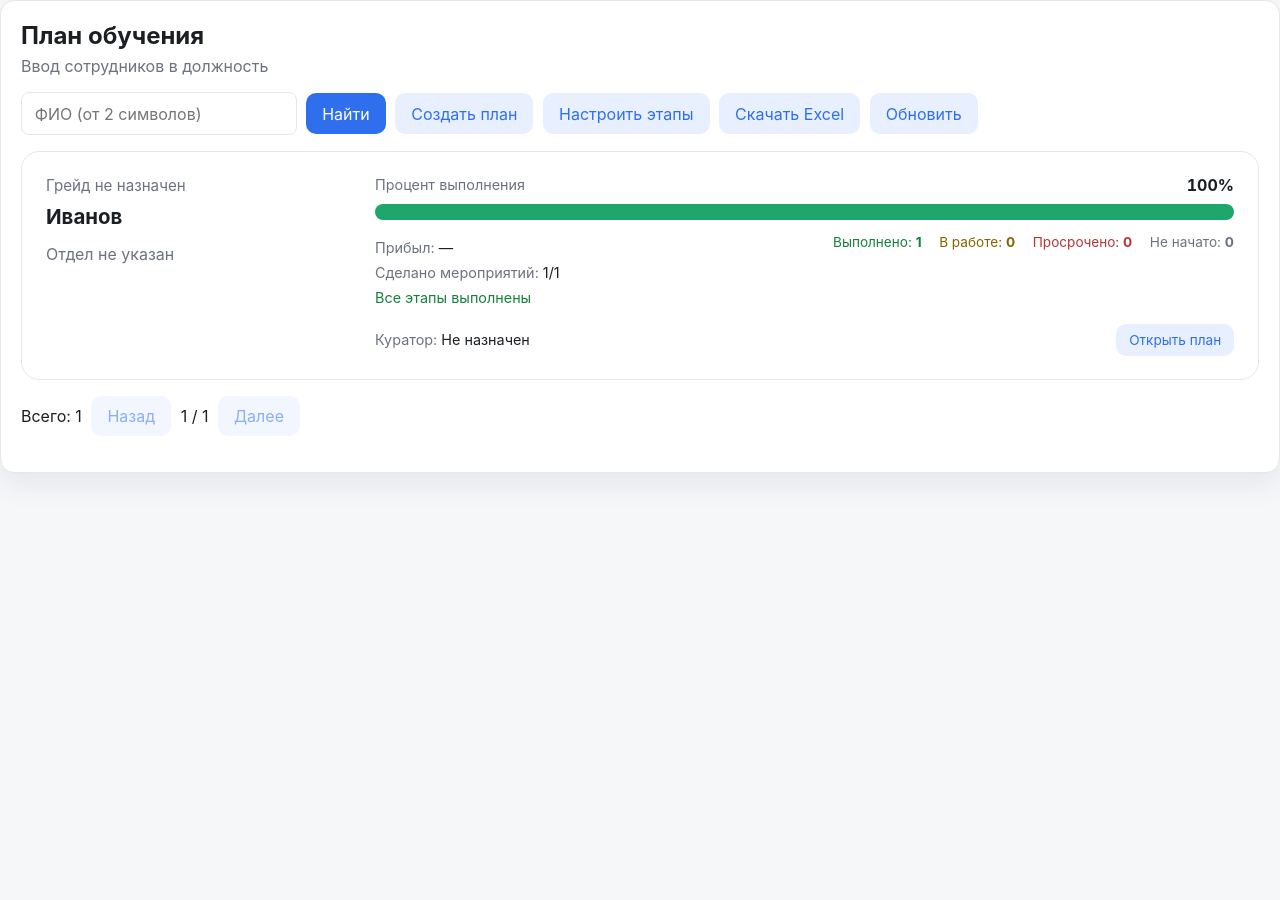
Test: New onboarding states and clearing › marks completed cells for green background styling
What coordinates should you click on to do the following:
click the button with class "expand-button"
I would click on:
 (1175, 340)
Its box is [1116,324,1234,356].
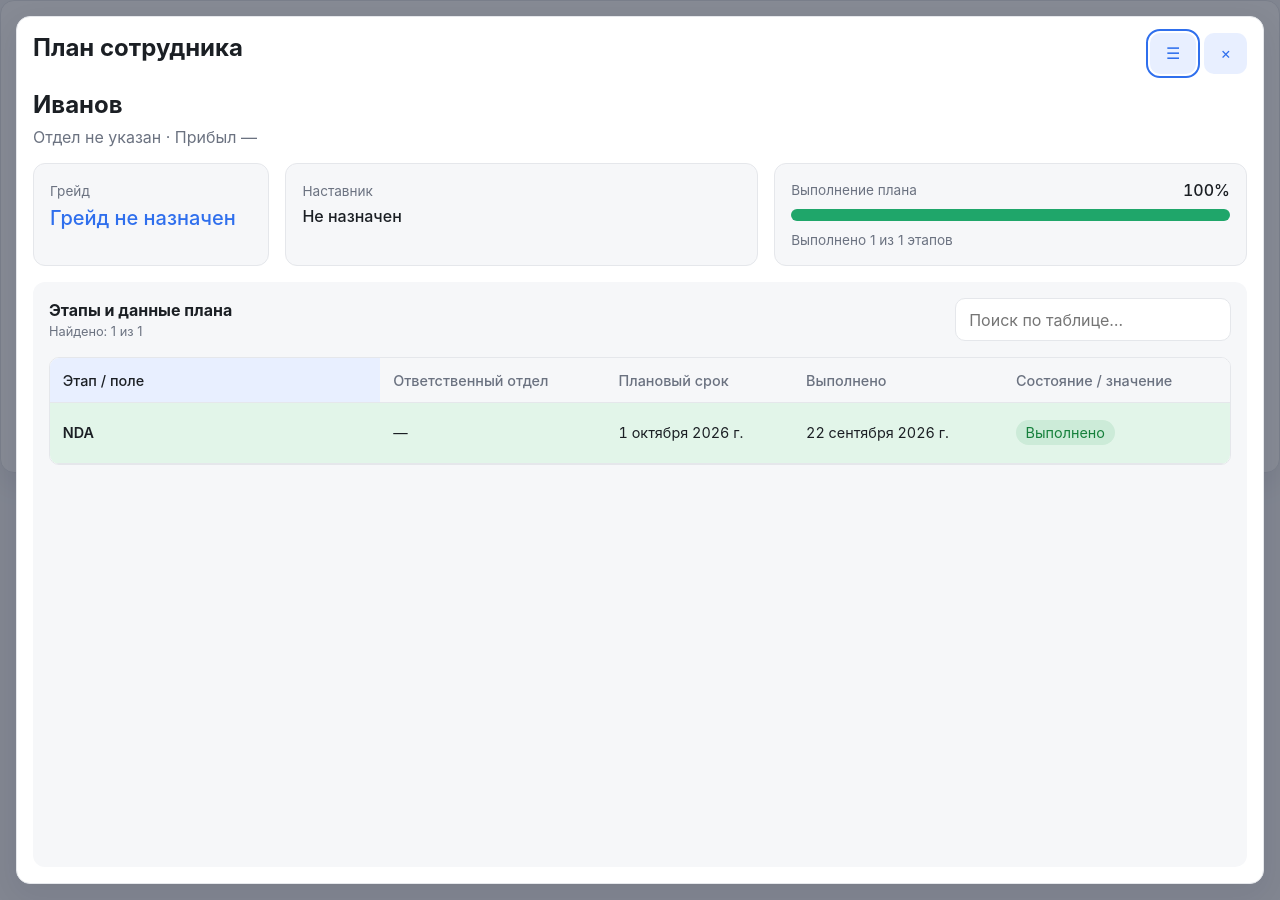
Check: the cell with class "completed" reads "Выполнено", box [1016,417,1217,449]
